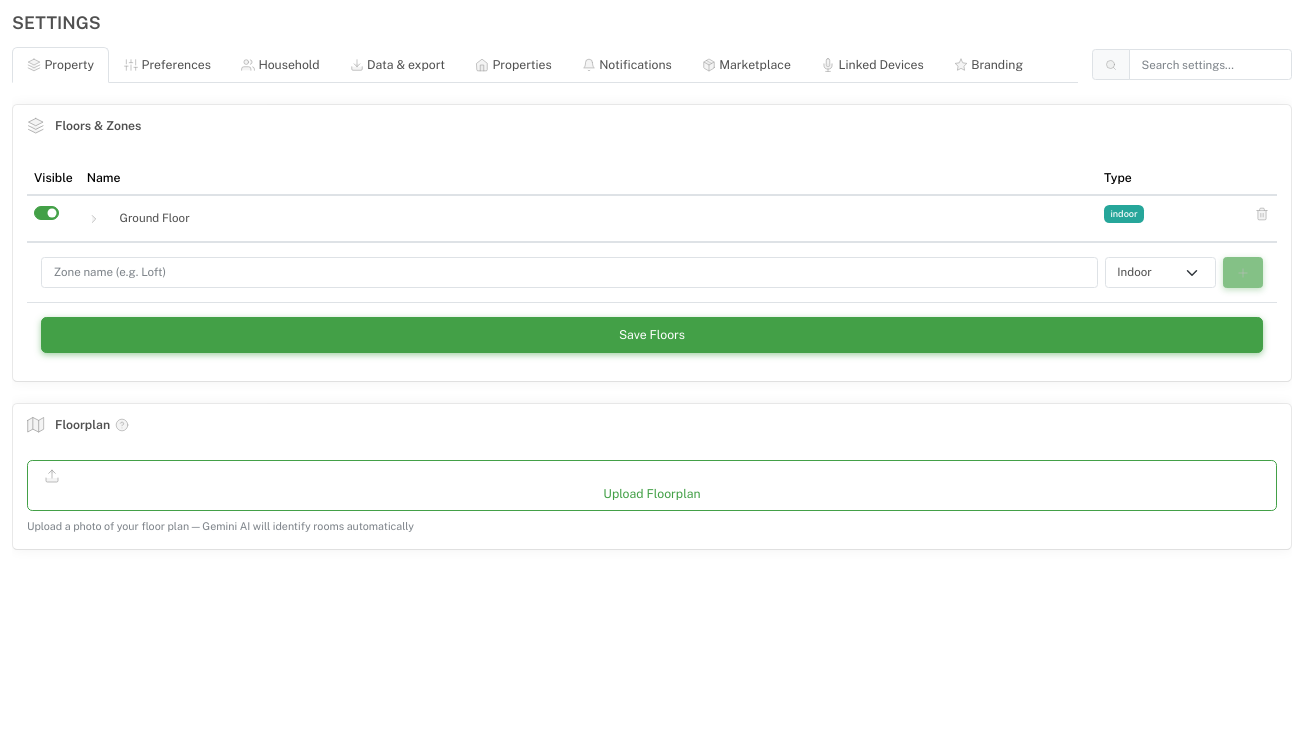
Test: SettingsPage tabs › exercises the add-zone form handlers
In the field named "New zone name": (569, 273) [41,257,1098,288], type "Loft"
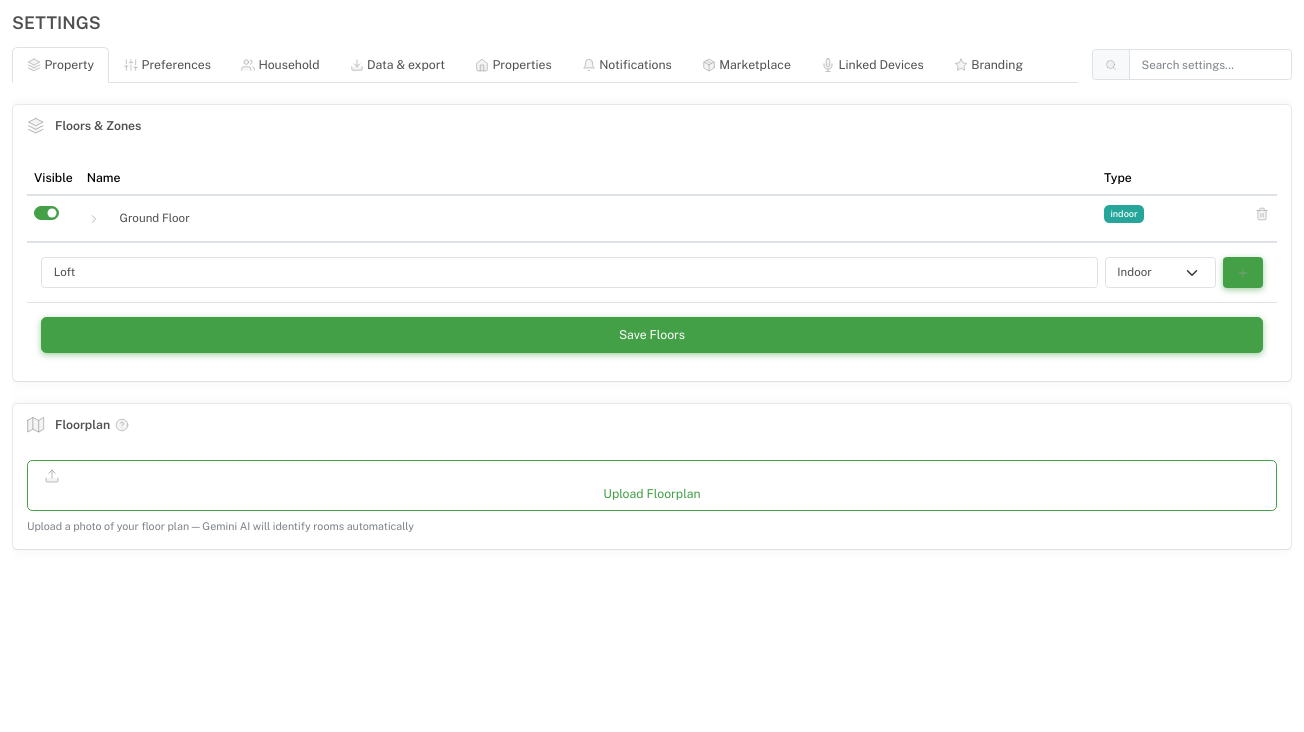
Select "Outdoor" in the dropdown named "New zone type": (1160, 273) [1104,257,1216,288]
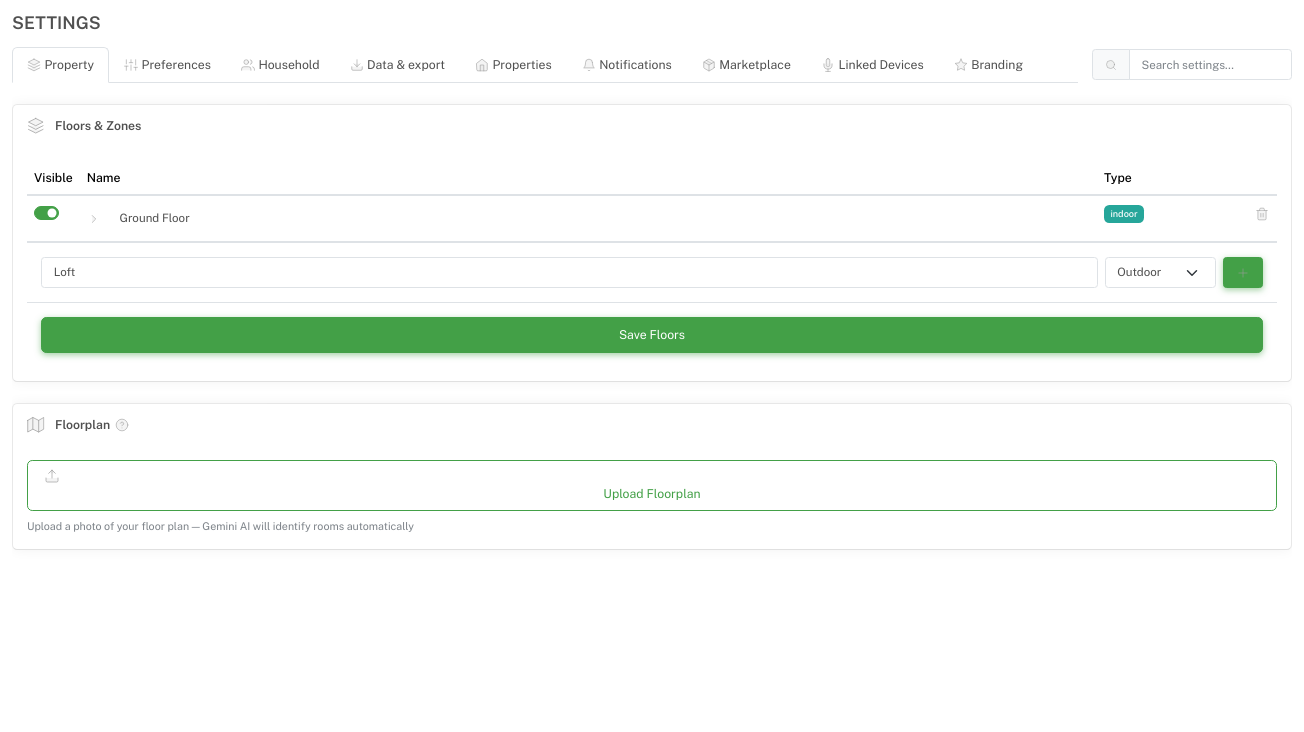
Click the button named "Add zone": (1243, 273) [1223,257,1263,288]
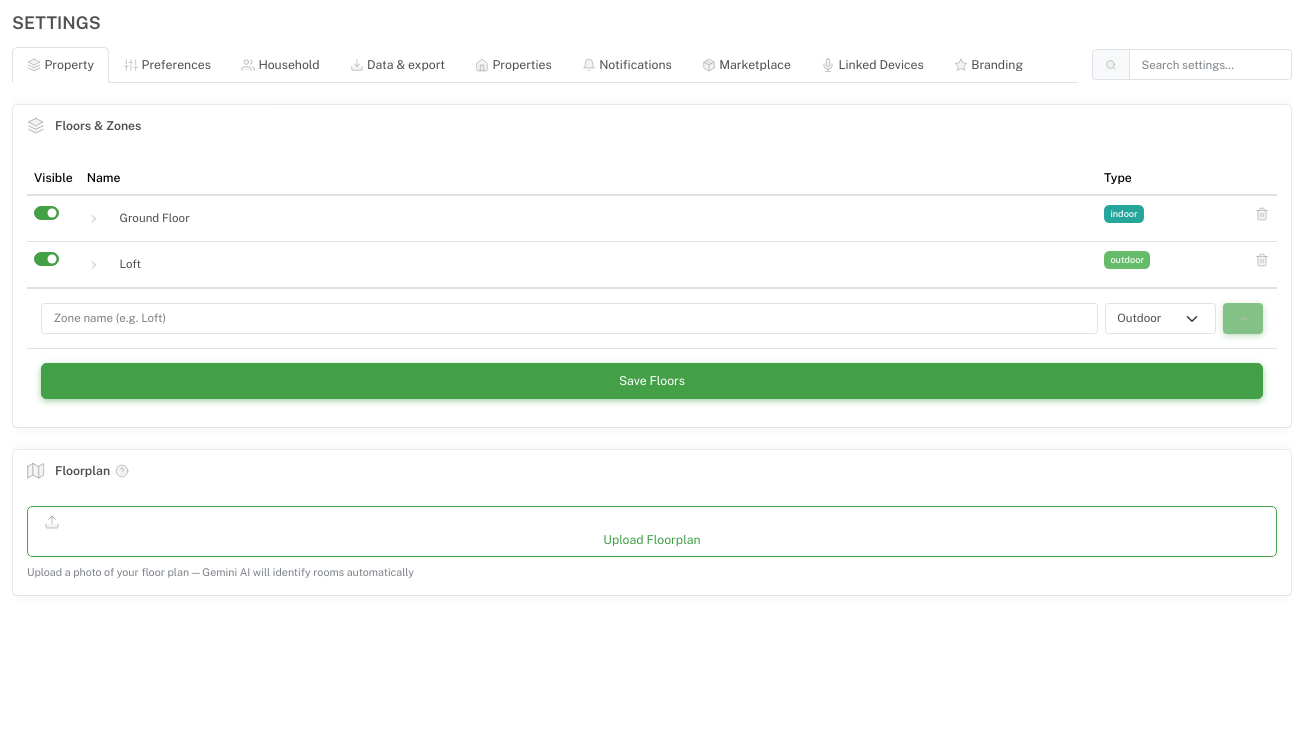
Now the button named "Delete floor Loft" is shown, box [1254,252,1270,268]
